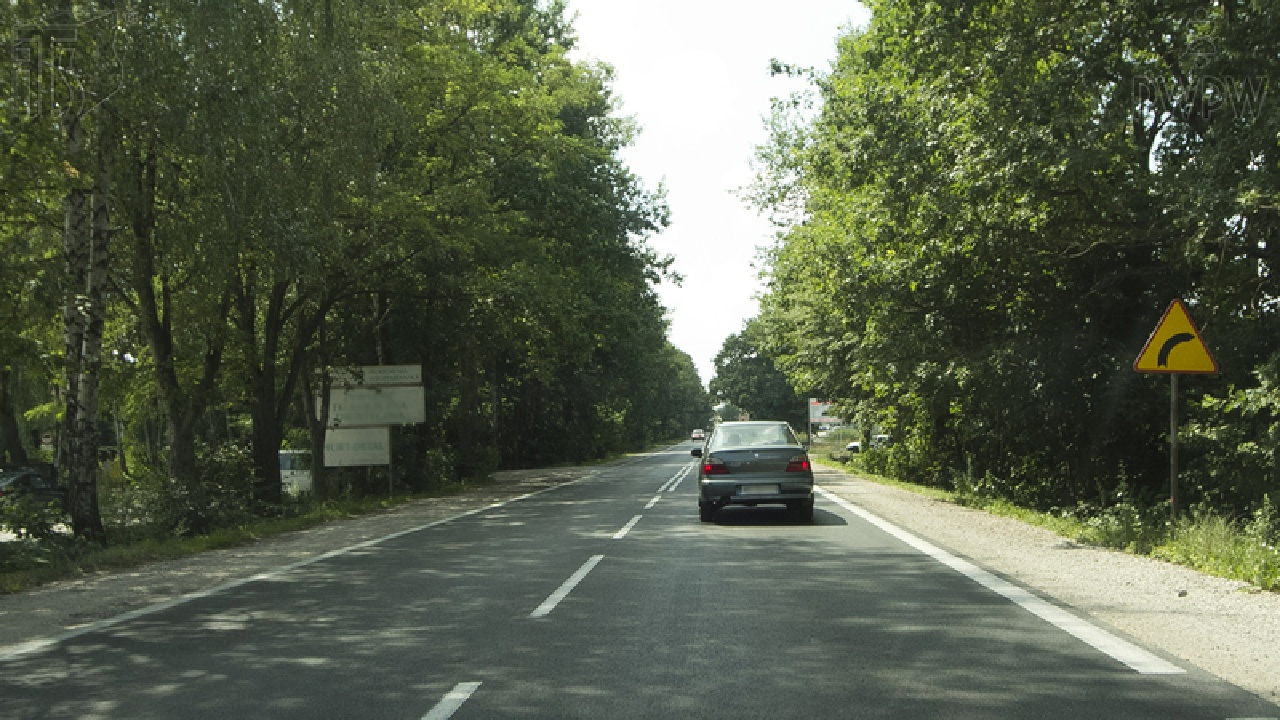A1: (1133, 298, 1220, 375)
